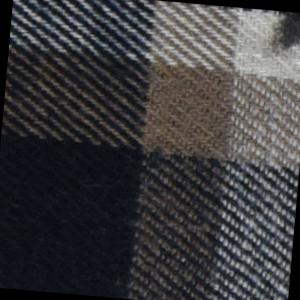Stain: (265, 10, 300, 61)
